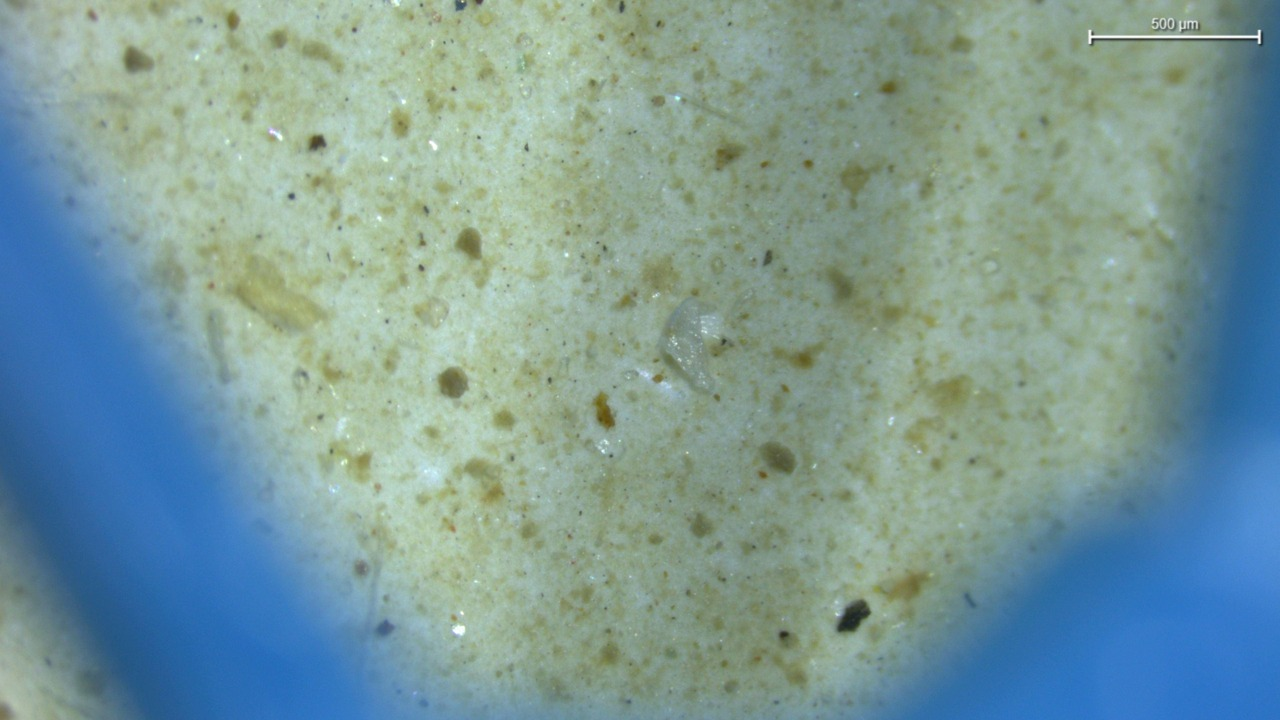microplastic_fragment: (660, 297, 722, 392)
